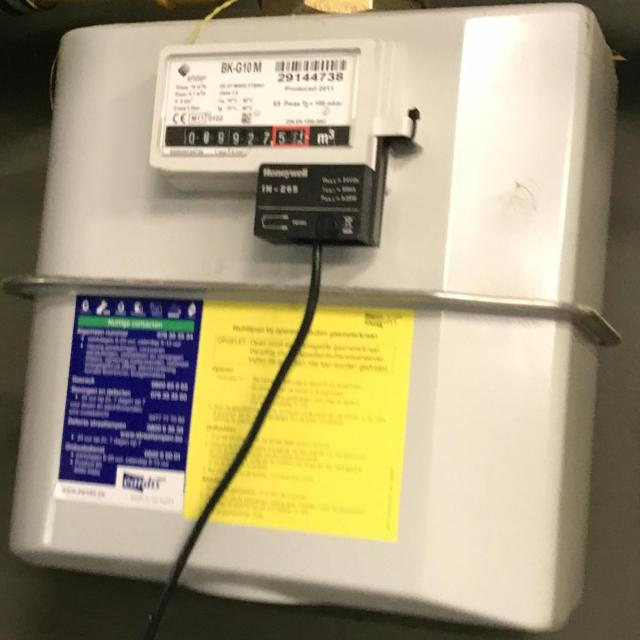gaz_meter: (158, 49, 361, 156)
indication: (169, 124, 317, 146)
